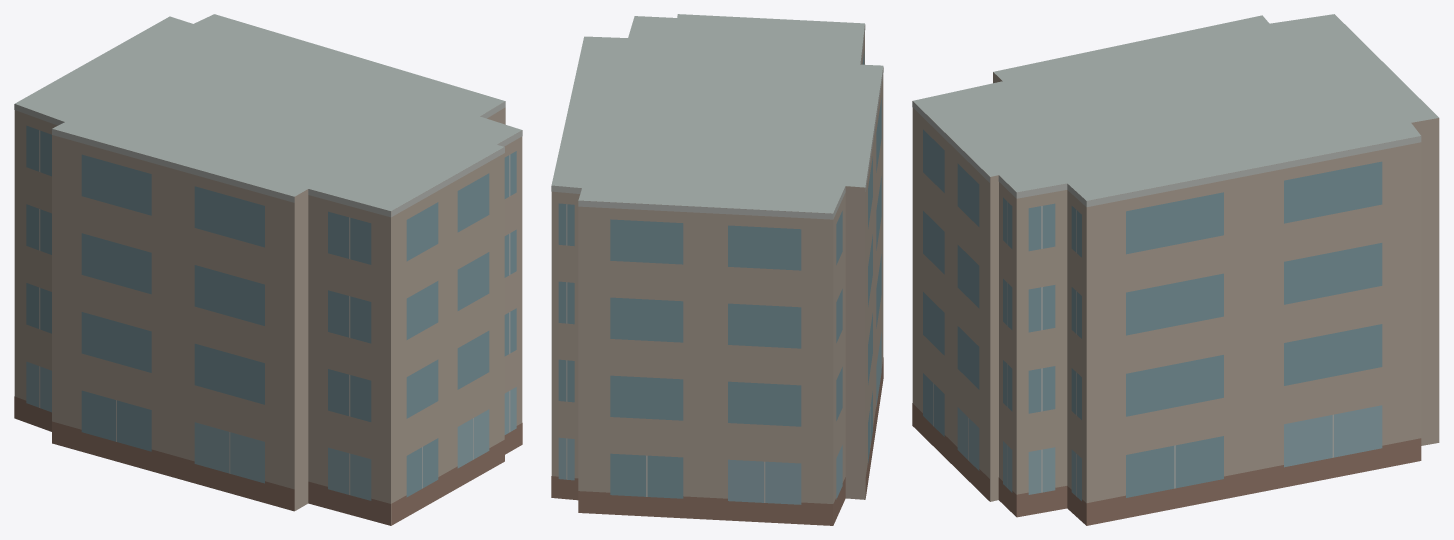
Rendered from survey-upis-32707047.glb.
3 views of the same model, side by side, from view 1: azimuth 30°, elevation 25°; view 2: azimuth 150°, elevation 25°; view 3: azimuth 270°, elevation 25° (orthographic). The views are drawn at different scales.
Visible parts, largest first — view 1: survey-upis-32707047.tmp; view 2: survey-upis-32707047.tmp; view 3: survey-upis-32707047.tmp.
Part boxes in pixels (bbox=[...]): survey-upis-32707047.tmp: bbox=[14, 14, 522, 525]; survey-upis-32707047.tmp: bbox=[551, 14, 883, 525]; survey-upis-32707047.tmp: bbox=[912, 14, 1439, 525].
Bounding box in the file's own units: 15.43 × 12.5 × 18.38.
